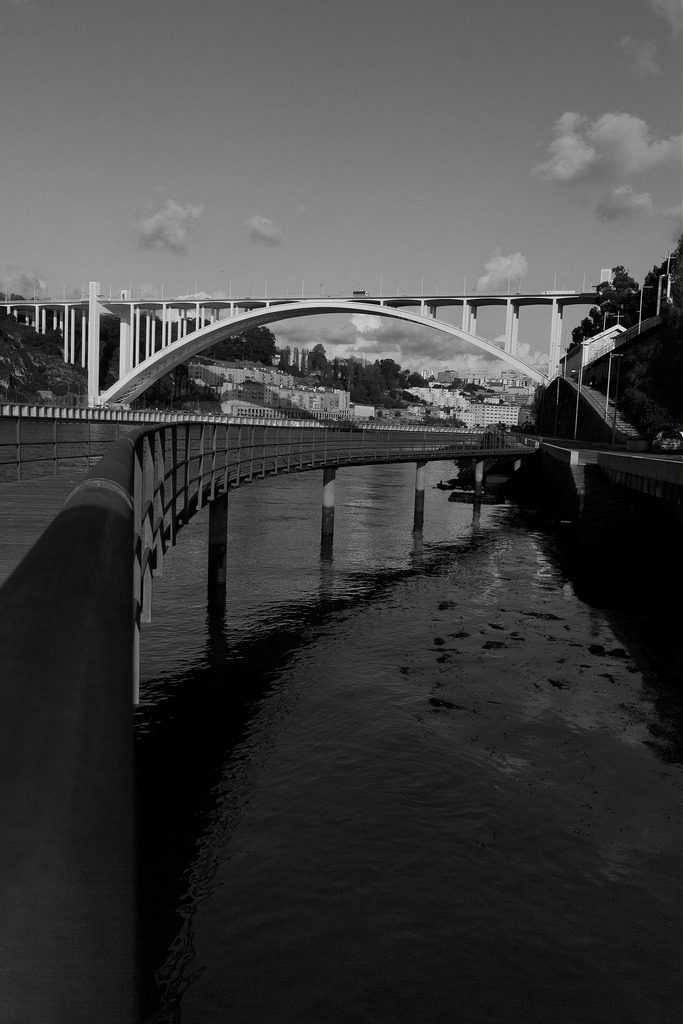arrabida: (0, 264, 626, 414)
